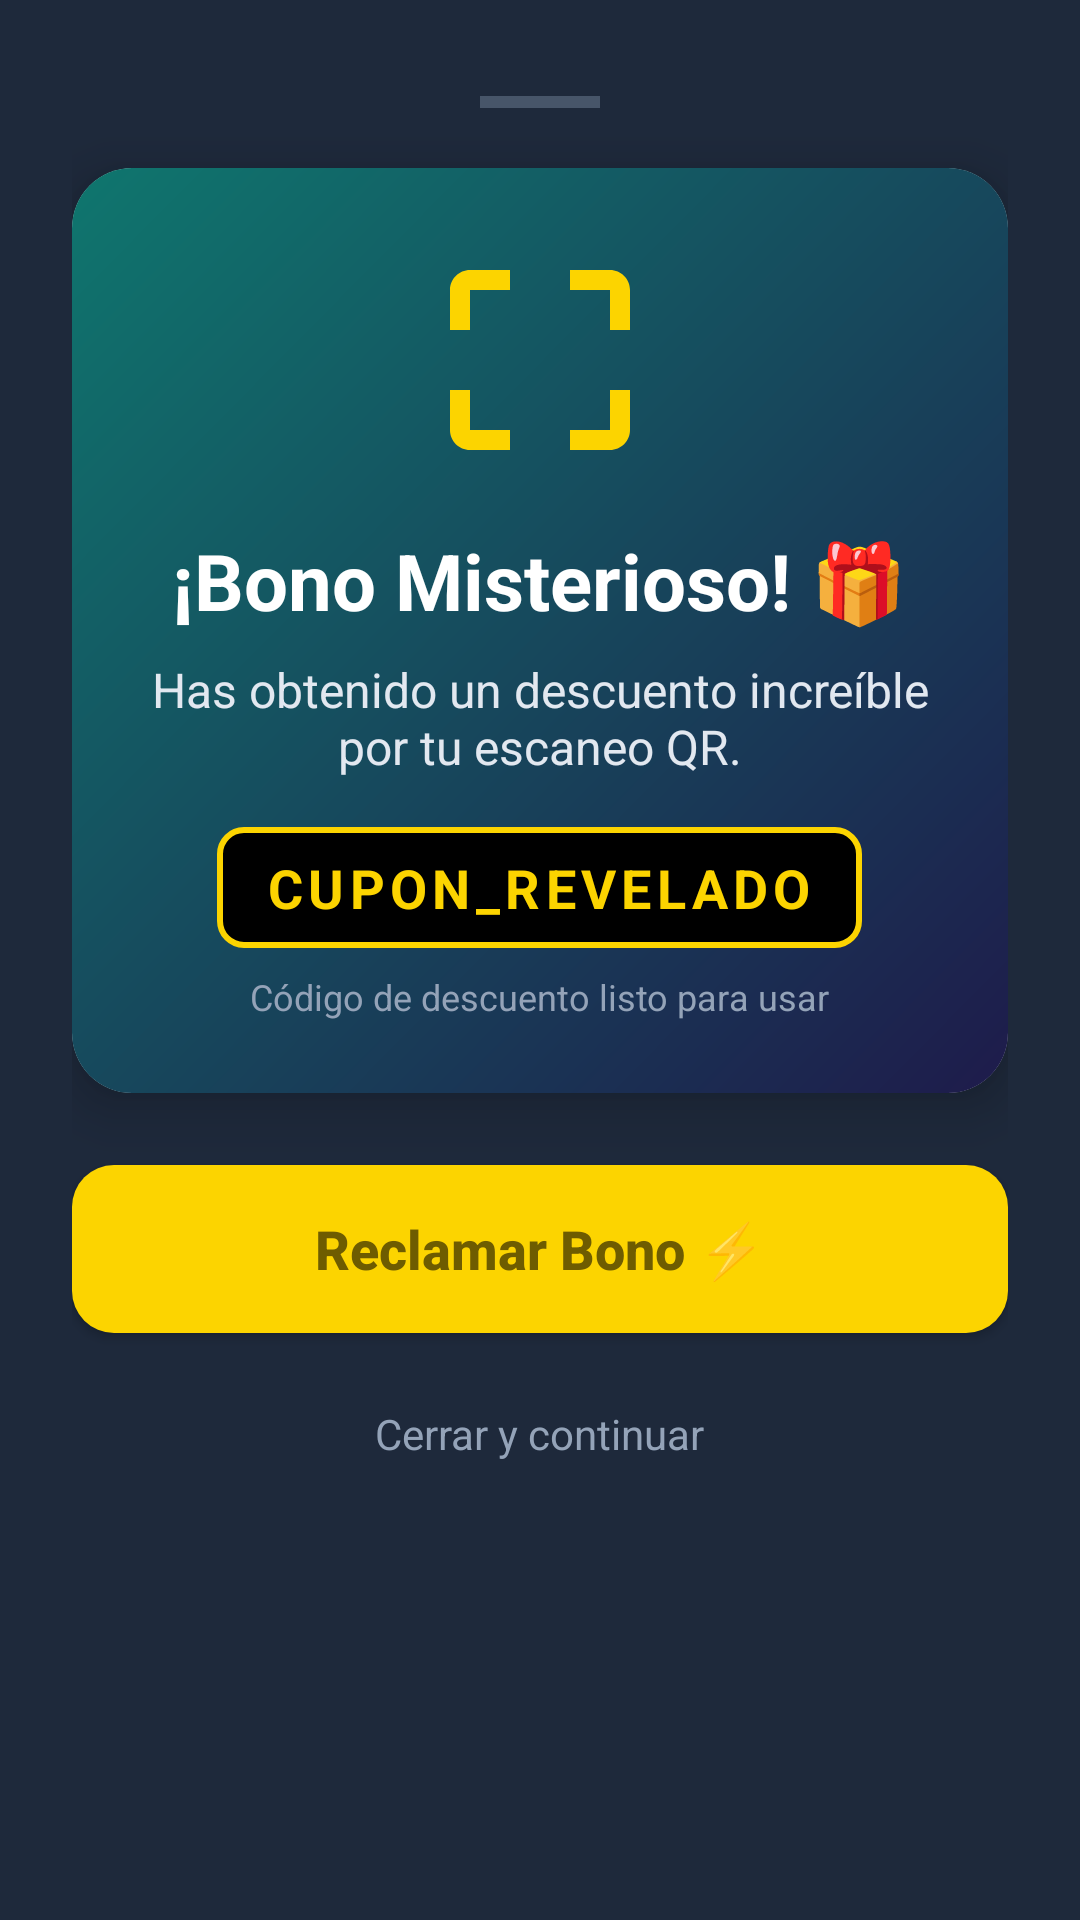

Where icons sit on this 1080w x 1920h app screen, as (x1, y1, x2, y2):
scan focus: (450, 270, 630, 450)
